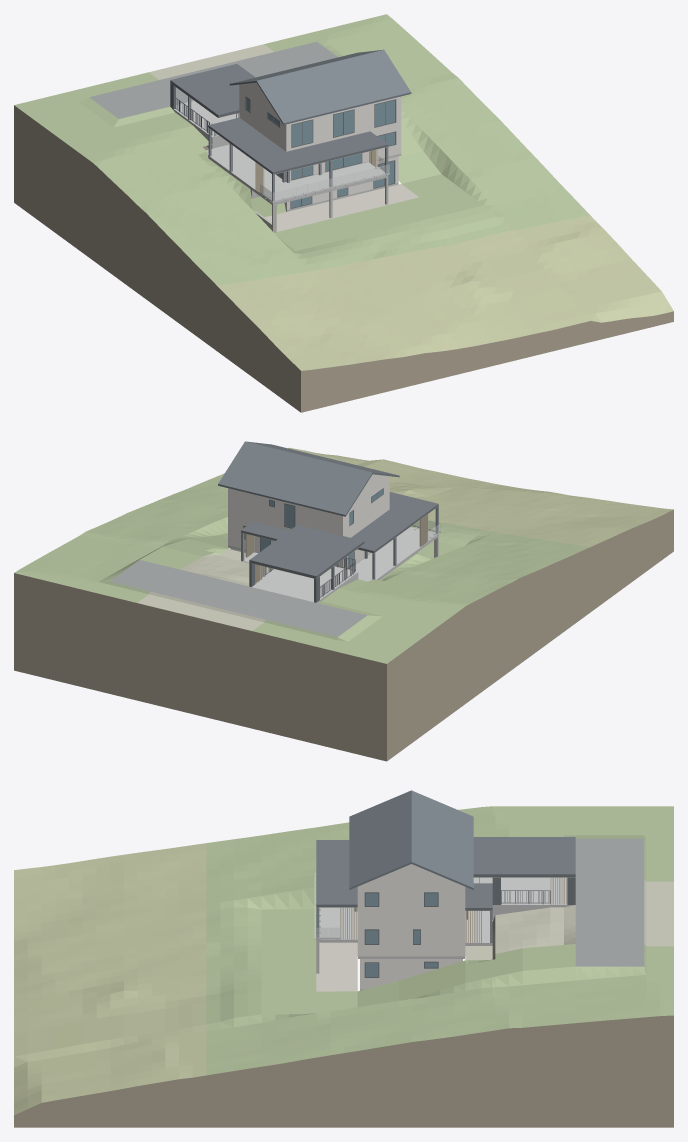
The model's file is Schaffernak_Haus_C.glb.
3 renders of one model, top to bottom at view 1: azimuth 30°, elevation 25°; view 2: azimuth 150°, elevation 25°; view 3: azimuth 270°, elevation 25°, orthographic. The views are drawn at different scales.
Visible parts, largest first — view 1: Foto_Gelaende_Rasen_Boeschung, Foto_Gelaende_Hang_unten, Foto_Gelaende_Modellrand, Satteldach_0, Strasse_parallel_zum_Haus_schematisch, Foto_Gelaende_Kies_Kellerbereich, Entwurf_Dach_vorne, Carport_Dach, Balkon_vorne, Foto_Gelaende_Seitliche_Gruenflaeche, Entwurf_Dach_links, Foto_Gelaende_Rueckseite (+3 smaller); view 2: Foto_Gelaende_Modellrand, Foto_Gelaende_Rasen_Boeschung, Foto_Gelaende_Hang_unten, Strasse_parallel_zum_Haus_schematisch, Satteldach_1, Foto_Gelaende_Rueckseite, Carport_Dach, Foto_Gelaende_Seitliche_Gruenflaeche, Carport_Boden, Entwurf_Dach_links, Balkon_links, OG_back_Wand0 (+5 smaller); view 3: Foto_Gelaende_Rasen_Boeschung, Foto_Gelaende_Modellrand, Foto_Gelaende_Hang_unten, Strasse_parallel_zum_Haus_schematisch, Foto_Gelaende_Rueckseite, Foto_Gelaende_Seitliche_Gruenflaeche, Satteldach_0, Satteldach_1, Carport_Dach, Entwurf_Dach_vorne, Carport_Boden, Foto_Gelaende_Kies_Kellerbereich (+9 smaller).
Boxes of the visible parts, x1,y1,x2,y2 form: Foto_Gelaende_Rasen_Boeschung: [14, 14, 589, 285]; Foto_Gelaende_Hang_unten: [217, 215, 673, 370]; Foto_Gelaende_Modellrand: [14, 105, 673, 412]; Satteldach_0: [256, 50, 411, 124]; Strasse_parallel_zum_Haus_schematisch: [89, 41, 337, 118]; Foto_Gelaende_Kies_Kellerbereich: [265, 184, 418, 231]; Entwurf_Dach_vorne: [255, 131, 388, 174]; Carport_Dach: [171, 64, 254, 114]; Balkon_vorne: [255, 162, 388, 205]; Foto_Gelaende_Seitliche_Gruenflaeche: [264, 34, 440, 183]; Entwurf_Dach_links: [208, 117, 285, 160]; Foto_Gelaende_Rueckseite: [149, 44, 273, 79]; Foto_Gelaende_Modellrand: [14, 509, 673, 761]; Foto_Gelaende_Rasen_Boeschung: [14, 476, 589, 663]; Foto_Gelaende_Hang_unten: [218, 447, 673, 546]; Strasse_parallel_zum_Haus_schematisch: [110, 560, 366, 636]; Satteldach_1: [218, 441, 372, 516]; Foto_Gelaende_Rueckseite: [137, 549, 272, 630]; Carport_Dach: [250, 525, 363, 575]; Foto_Gelaende_Seitliche_Gruenflaeche: [97, 533, 229, 602]; Carport_Boden: [252, 569, 352, 602]; Entwurf_Dach_links: [351, 509, 420, 552]; Balkon_links: [351, 540, 420, 580]; OG_back_Wand0: [295, 504, 345, 535]; Foto_Gelaende_Rasen_Boeschung: [206, 806, 673, 1075]; Foto_Gelaende_Modellrand: [14, 1015, 673, 1127]; Foto_Gelaende_Hang_unten: [14, 843, 206, 1115]; Strasse_parallel_zum_Haus_schematisch: [575, 838, 644, 966]; Foto_Gelaende_Rueckseite: [465, 879, 673, 960]; Foto_Gelaende_Seitliche_Gruenflaeche: [357, 944, 673, 1007]; Satteldach_0: [349, 790, 411, 889]; Satteldach_1: [411, 790, 473, 889]; Carport_Dach: [473, 837, 575, 874]; Entwurf_Dach_vorne: [316, 840, 357, 907]; Carport_Boden: [492, 877, 573, 906]; Foto_Gelaende_Kies_Kellerbereich: [316, 942, 357, 991].
Bounding box in the file's own units: 36 × 16.06 × 48.
